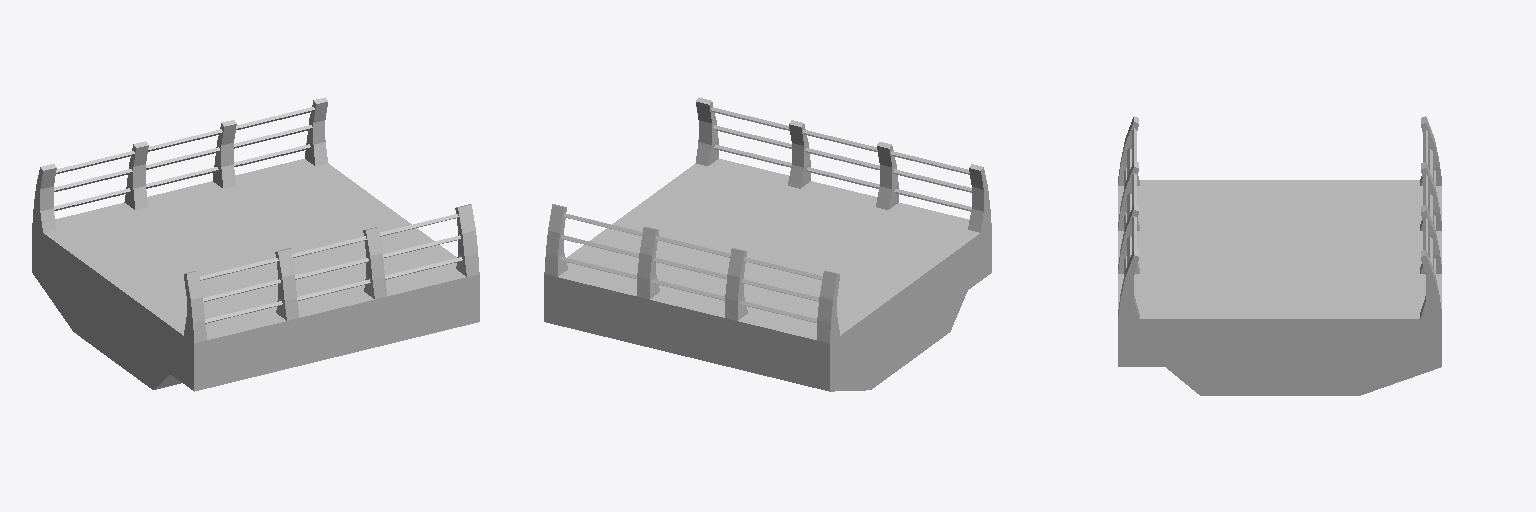
Rendered from concretebridge.obj.
3 views of the same model, side by side, from view 1: azimuth 30°, elevation 25°; view 2: azimuth 150°, elevation 25°; view 3: azimuth 270°, elevation 25° (orthographic).
Parts seen in each view (by area): view 1: Cylinder.000_Cylinder.005; view 2: Cylinder.000_Cylinder.005; view 3: Cylinder.000_Cylinder.005.
Boxes of the visible parts, x1=… form: Cylinder.000_Cylinder.005: x1=32, y1=97, x2=479, y2=391; Cylinder.000_Cylinder.005: x1=544, y1=97, x2=991, y2=391; Cylinder.000_Cylinder.005: x1=1118, y1=116, x2=1441, y2=395.
Size of the model in its own units: 3.16 by 1.49 by 3.11.